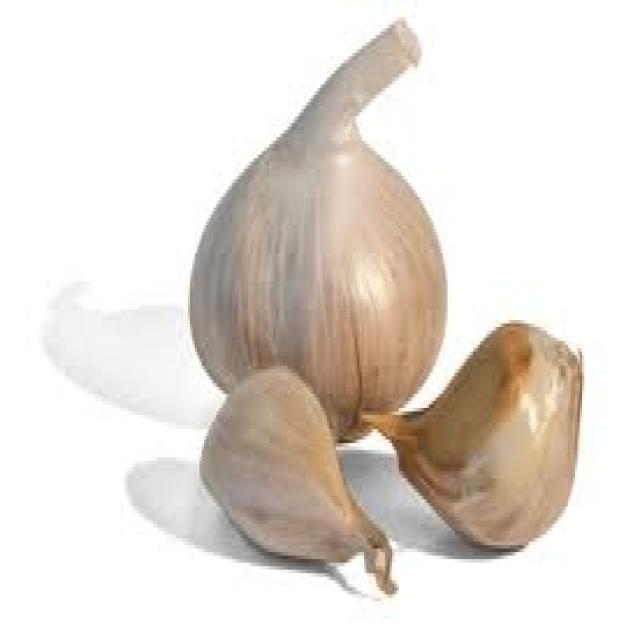Garlic: (174, 302, 603, 608), (170, 7, 463, 433)
